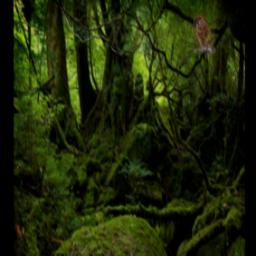Sparrow: (194, 16, 215, 55)
